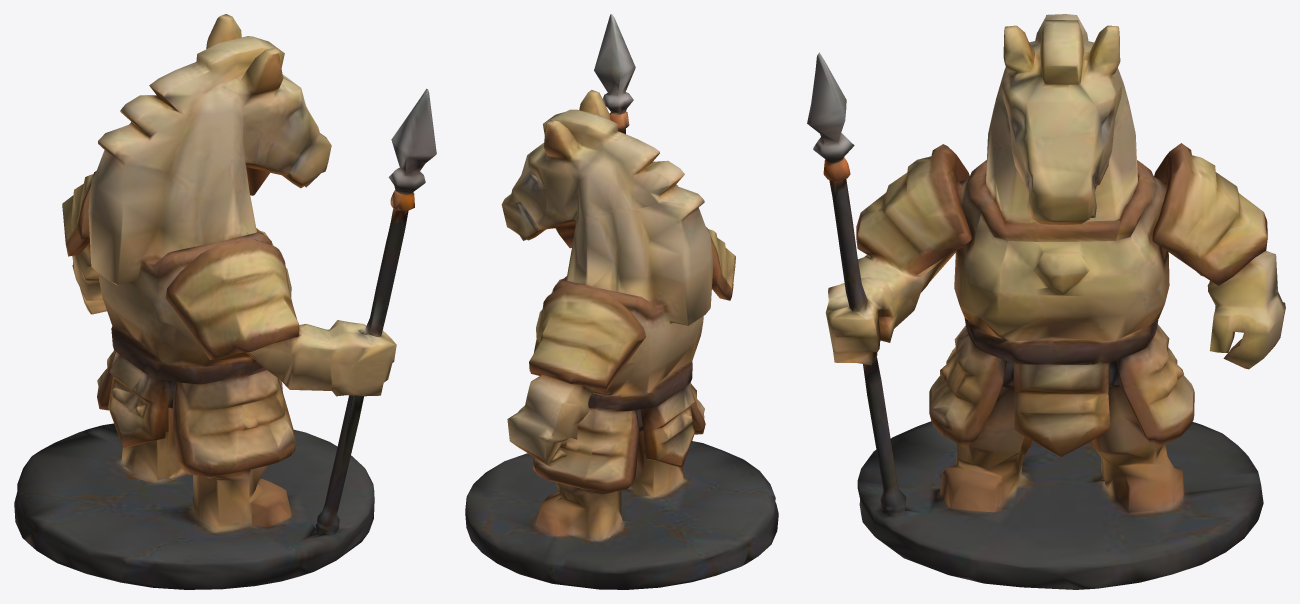
The model's file is fig-horse.glb.
The picture shows the model from 3 angles, left to right: view 1: azimuth 30°, elevation 25°; view 2: azimuth 150°, elevation 25°; view 3: azimuth 270°, elevation 25°; orthographic projection. The views are drawn at different scales.
Parts seen in each view (by area): view 1: tripo_node_16fe81af-3ba9-4692-94c7-744052f8e74a; view 2: tripo_node_16fe81af-3ba9-4692-94c7-744052f8e74a; view 3: tripo_node_16fe81af-3ba9-4692-94c7-744052f8e74a.
Part boxes in pixels (box(x1,y1,x2,y2)): tripo_node_16fe81af-3ba9-4692-94c7-744052f8e74a: box(14, 14, 436, 589); tripo_node_16fe81af-3ba9-4692-94c7-744052f8e74a: box(465, 14, 778, 589); tripo_node_16fe81af-3ba9-4692-94c7-744052f8e74a: box(807, 14, 1285, 589).
Size of the model in its own units: 0.6876 by 0.9991 by 0.8316.
Materials: 1 (1 with a texture image).
